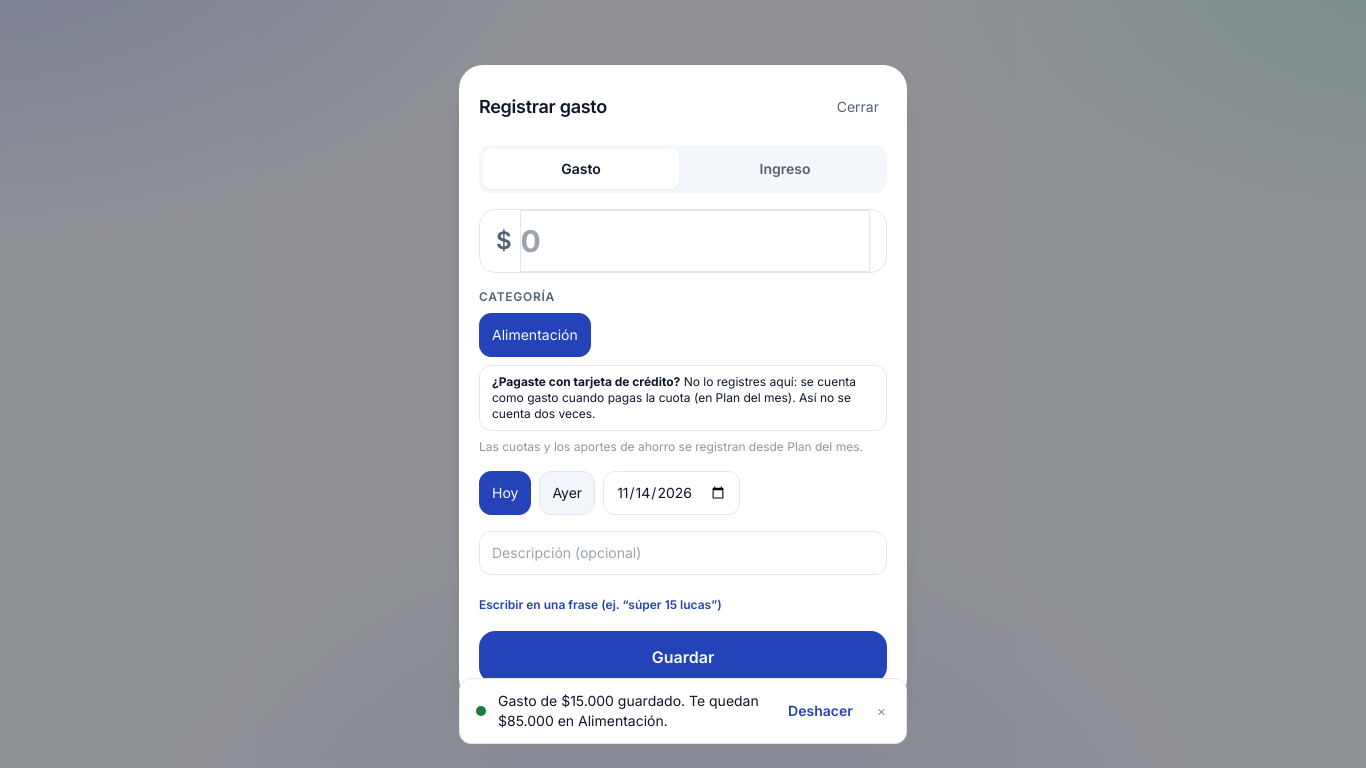
Test: QuickAddSheet › avisa antes de guardar un gasto mayor a la plata que hay hoy
The width and height of the screenshot is (1366, 768).
Later steps or results of the test are not shown.
Type "15000" into the field named "Monto en pesos" at coordinates (695, 241), box [520,210,870,272]
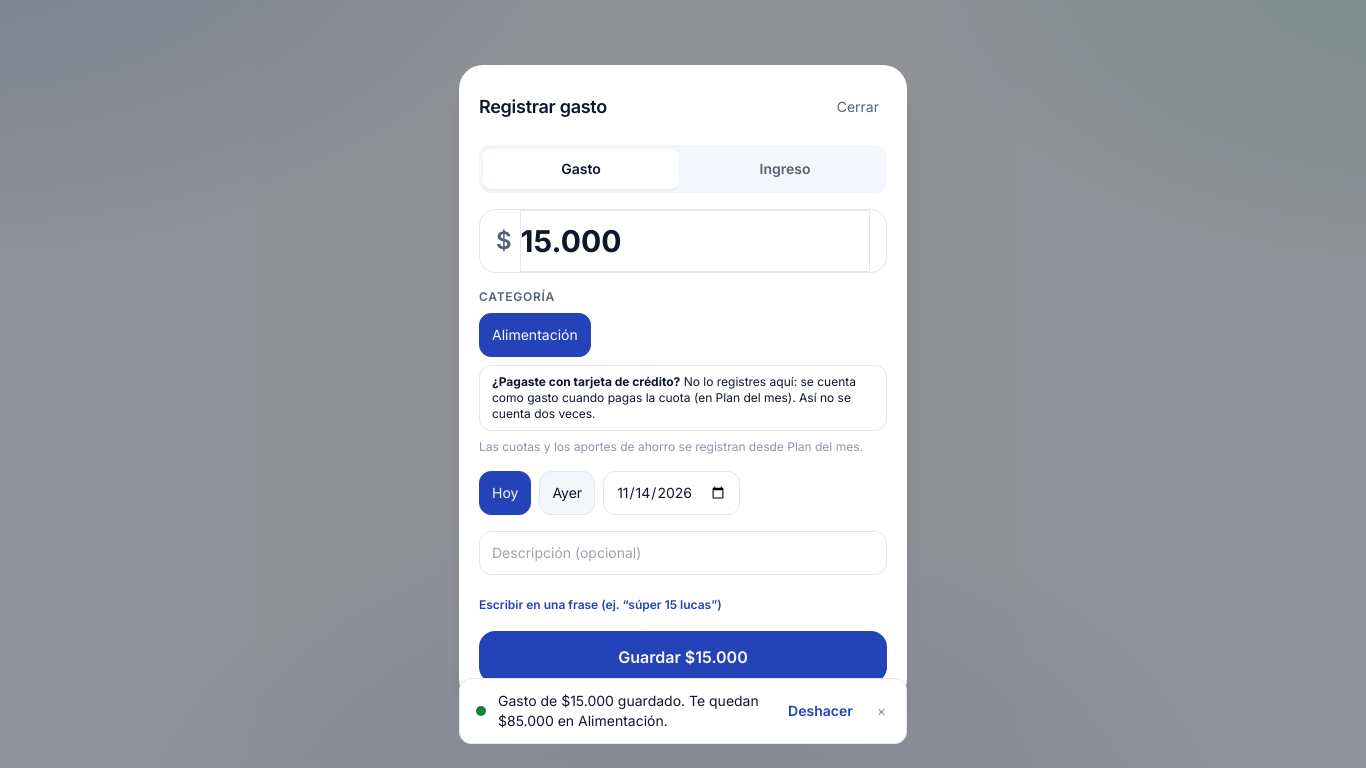
Click the button "Alimentación" at coordinates (535, 335), box [479,313,591,357]
Click the button "Guardar $15.000" at coordinates (683, 657), box [479,631,887,683]
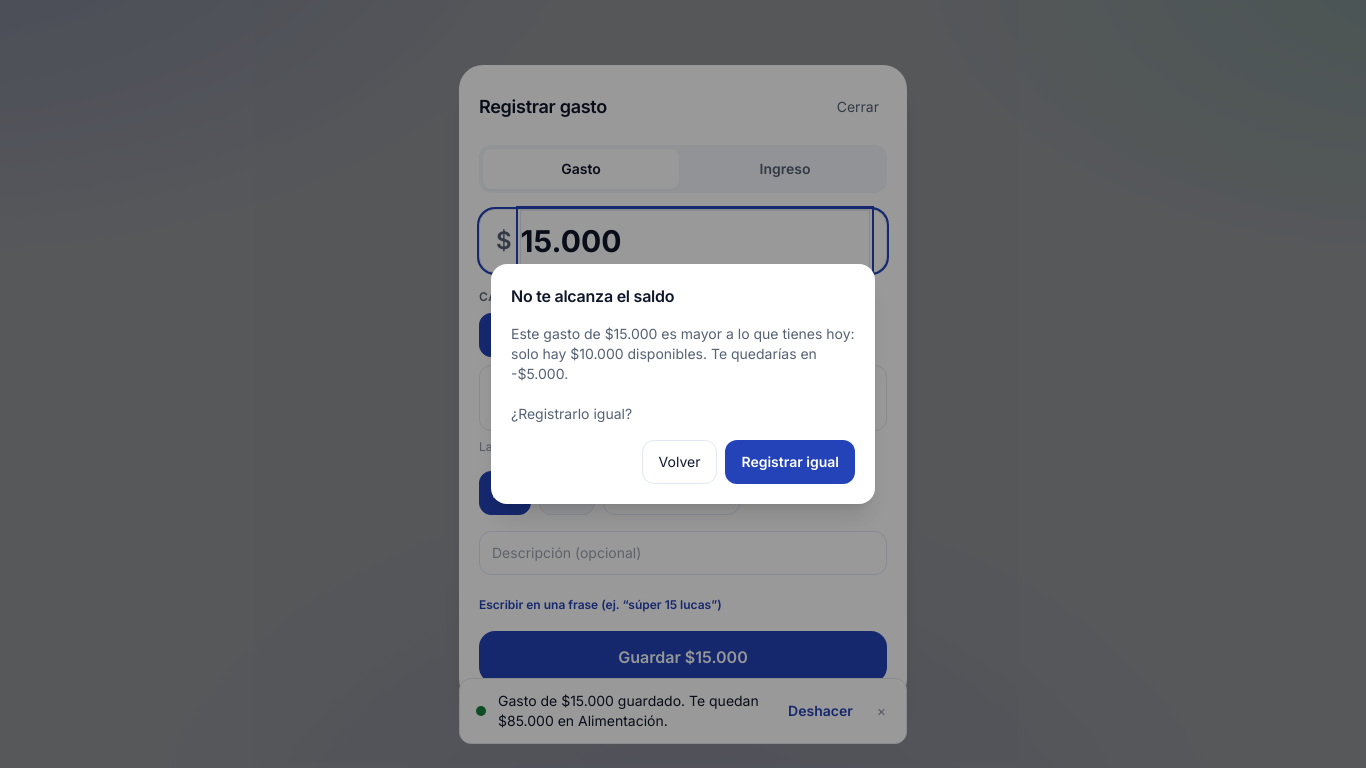
Check: the text "solo hay $10.000 disponibles" is shown, box [511,325,855,422]
